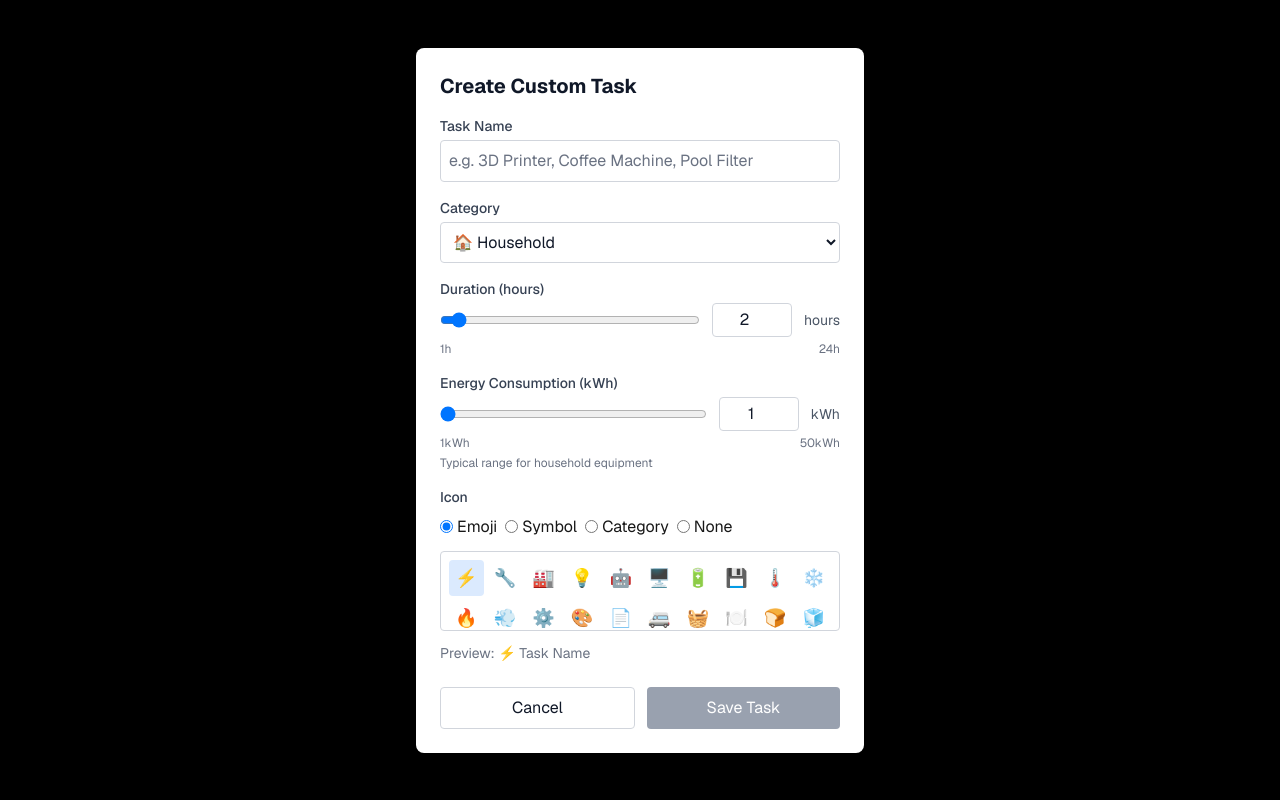
Test: CustomTaskModal › User Interactions › should handle icon type selection
What coordinates should you click on to do the following:
click the radio button labelled "Symbol"
I would click on:
 (512, 526)
Its box is x1=505 y1=520 x2=518 y2=533.
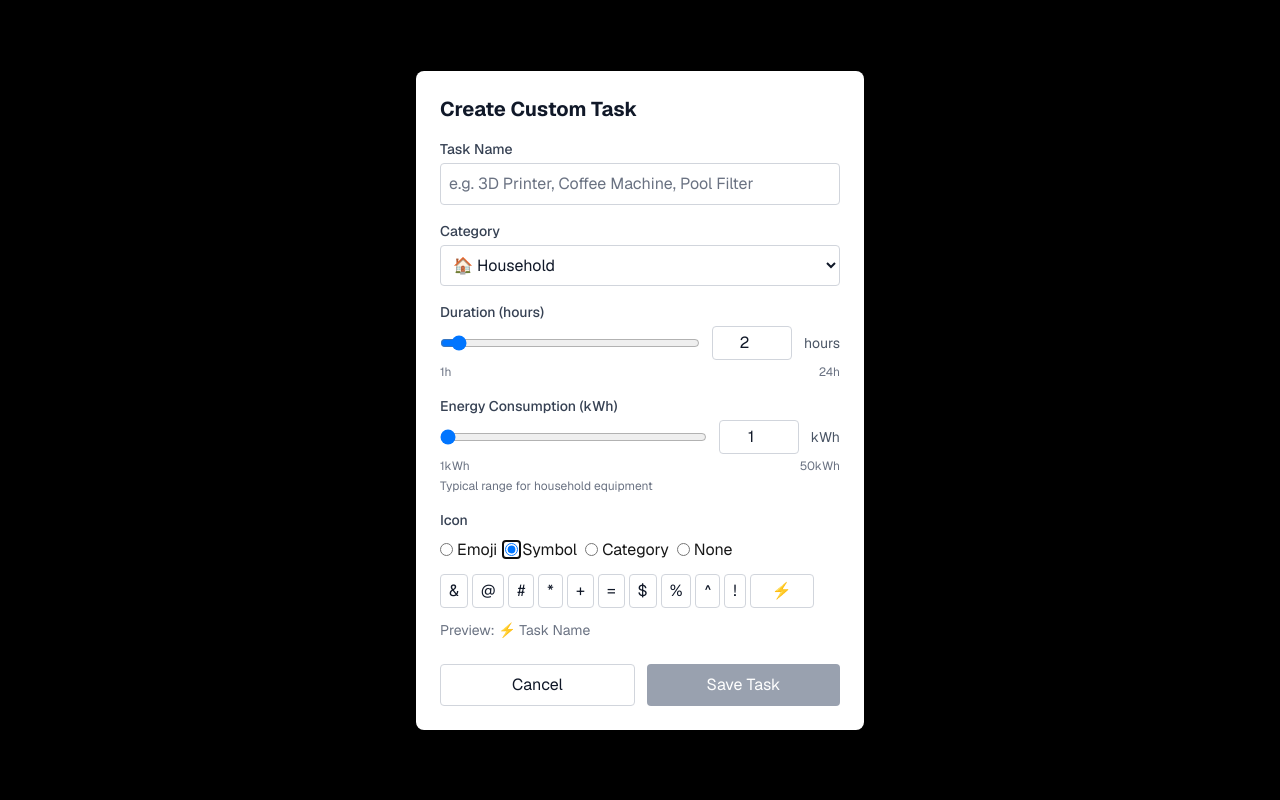
Check: the radio button labelled "Symbol" is checked, box x1=505 y1=543 x2=518 y2=556
Check: the button "&" is shown, box x1=440 y1=574 x2=468 y2=608
